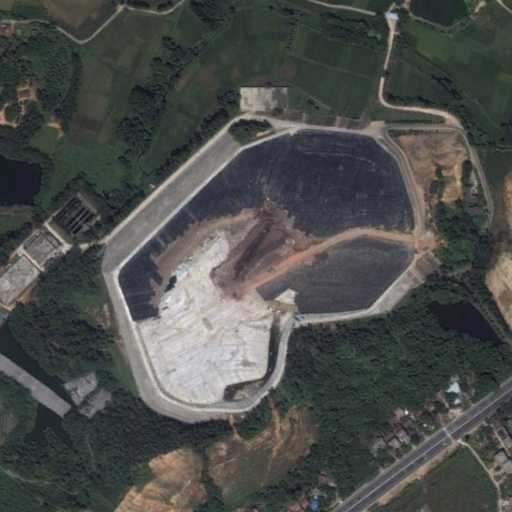lf: (119, 127, 419, 410)
